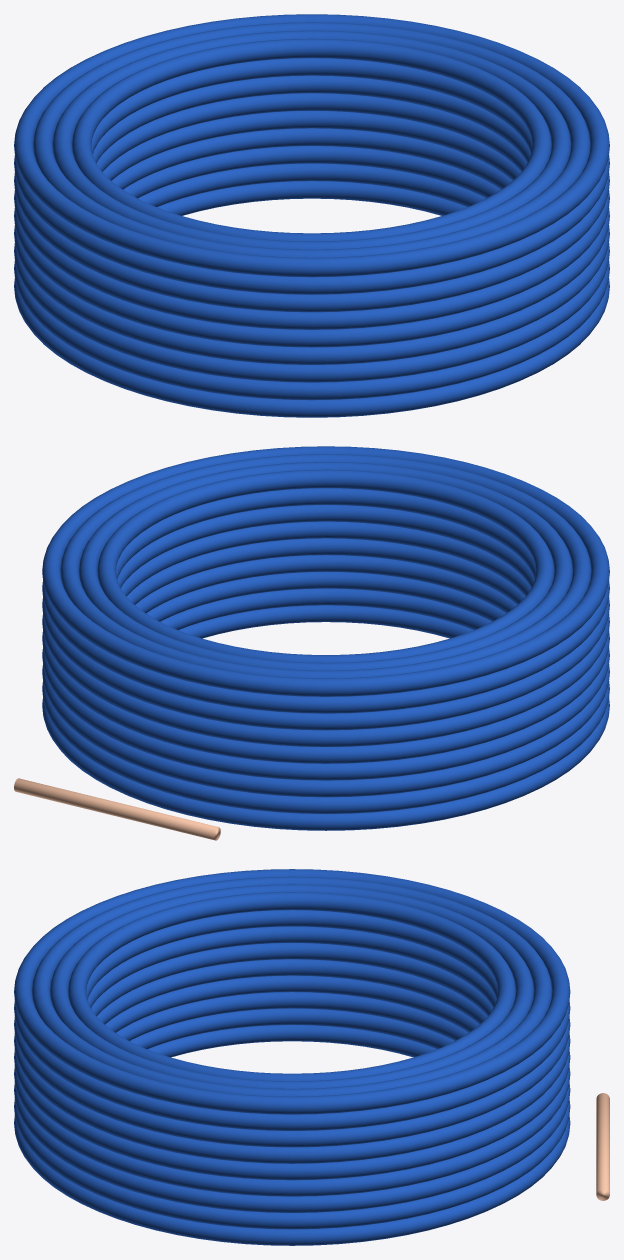
The model's file is coil_blue.glb.
3 views of the same model, one above another, from view 1: azimuth 30°, elevation 25°; view 2: azimuth 150°, elevation 25°; view 3: azimuth 270°, elevation 25° (orthographic). The views are drawn at different scales.
Visible parts, largest first — view 1: coil; view 2: coil; view 3: coil.
Part boxes in pixels (box(x1,y1,x2,y2)): coil: box(14, 14, 609, 417); coil: box(14, 446, 609, 840); coil: box(14, 869, 609, 1245).
Size of the model in its own units: 0.0984 by 0.0288 by 0.1054.
